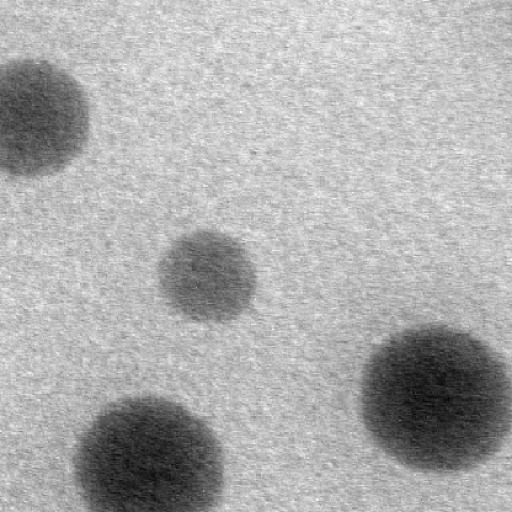Nanoparticles: (359, 323, 508, 471), (74, 394, 223, 510), (0, 58, 90, 178), (159, 229, 257, 323)
